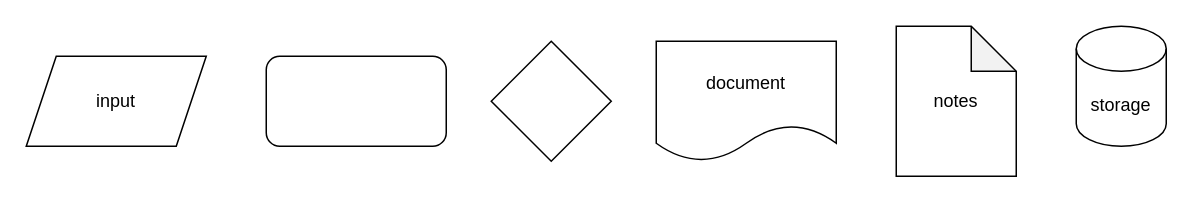
Some shapes in this 1193 by 203 pixel diagram are drawn without their labels. The centre of each missing label's shape, as x and y in pixels:
"action/process" belongs at [355,100].
"decision" belongs at [550,100].
